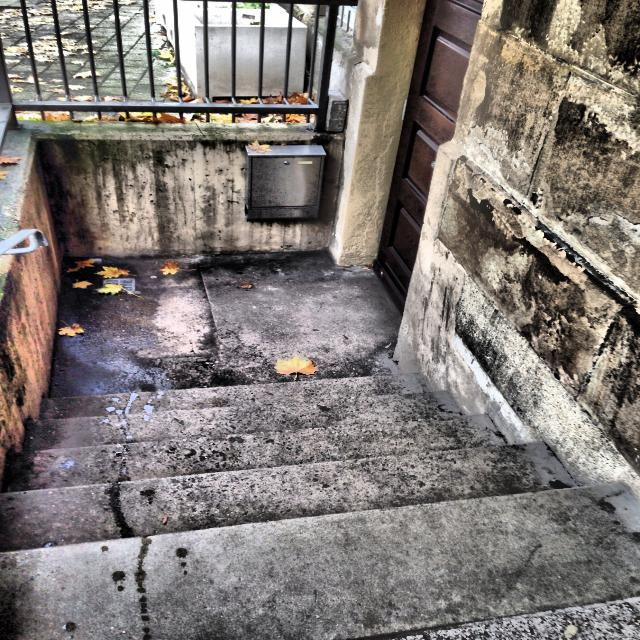escada: (0, 374, 640, 588)
